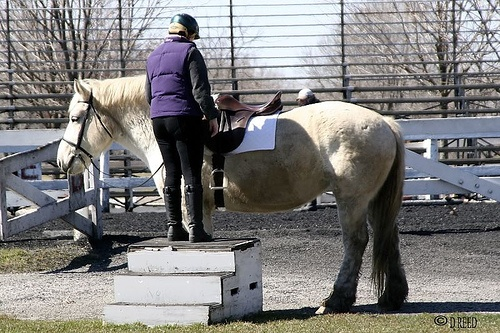head: (168, 15, 202, 44)
person: (143, 9, 220, 245)
